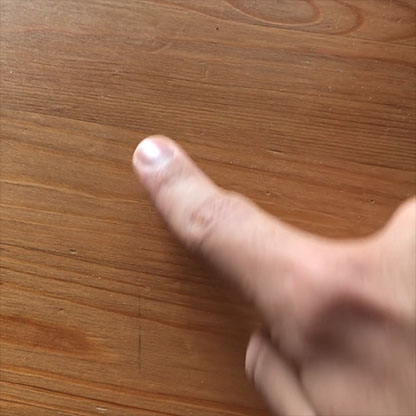fingertip: (117, 126, 190, 184)
